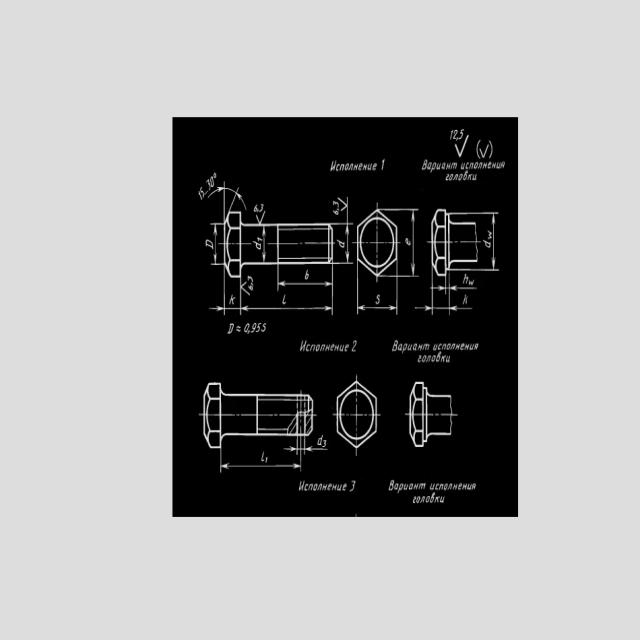marking_line: (209, 279, 336, 318), (239, 279, 334, 316), (414, 278, 473, 316), (219, 450, 304, 473), (356, 277, 398, 315), (398, 207, 420, 278), (277, 266, 334, 293), (479, 211, 500, 273), (207, 181, 247, 212), (334, 222, 354, 265), (429, 277, 479, 294), (209, 269, 226, 318), (332, 195, 354, 225), (209, 222, 223, 266), (448, 273, 478, 293), (303, 437, 328, 454), (453, 212, 500, 220), (283, 437, 299, 456), (451, 266, 501, 272), (261, 226, 267, 262), (256, 210, 266, 224), (430, 269, 433, 293)
numeric: (205, 239, 214, 250), (349, 480, 356, 492), (228, 295, 235, 305), (352, 340, 357, 353), (251, 323, 257, 333), (256, 323, 262, 333), (261, 323, 267, 333), (381, 158, 385, 172), (304, 269, 309, 280), (206, 178, 210, 191), (201, 186, 205, 199), (459, 129, 464, 139), (198, 190, 203, 200), (244, 323, 249, 333), (282, 293, 286, 305), (259, 203, 264, 212), (253, 203, 258, 212), (450, 129, 454, 140), (453, 129, 457, 140), (211, 176, 215, 187), (247, 275, 253, 282), (247, 285, 253, 291), (322, 439, 326, 448), (257, 238, 263, 242)
special_symbol: (455, 135, 469, 158), (241, 280, 250, 296), (479, 144, 489, 158), (337, 197, 346, 212), (477, 139, 481, 159), (489, 140, 493, 159), (236, 324, 241, 332), (213, 172, 217, 179)
